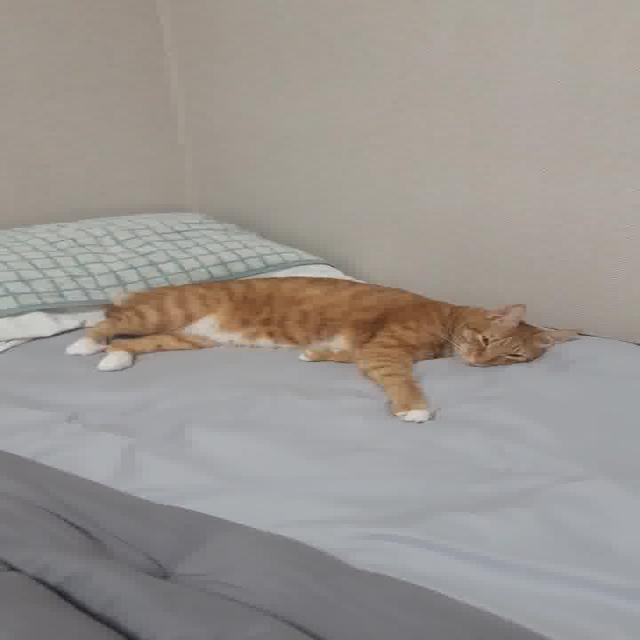cat: (0, 256, 600, 436)
